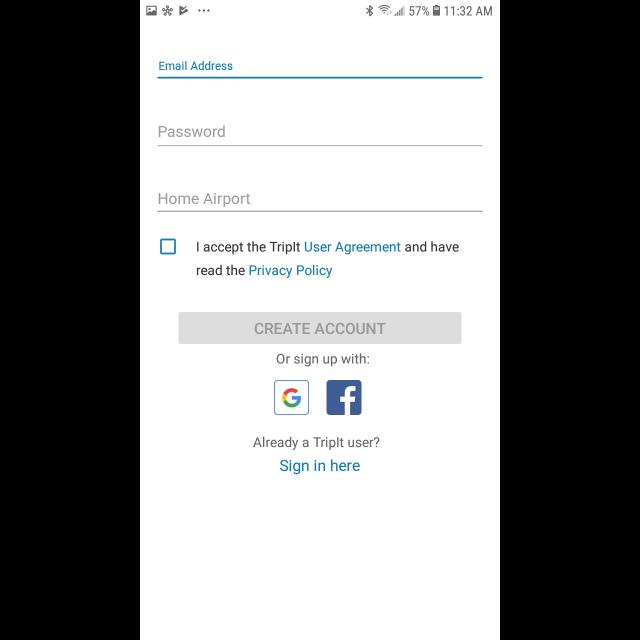checkbox: (160, 238, 176, 254)
icon: (274, 380, 310, 416), (326, 380, 362, 416)
input: (158, 125, 482, 146), (158, 61, 482, 79), (158, 194, 482, 212)
text: (196, 242, 459, 278), (252, 436, 380, 450), (276, 353, 369, 367), (159, 193, 251, 207), (280, 459, 360, 475), (158, 126, 226, 138), (159, 61, 233, 71)
textbutton: (178, 312, 462, 344)
uppertaskbar: (140, 1, 500, 18)
